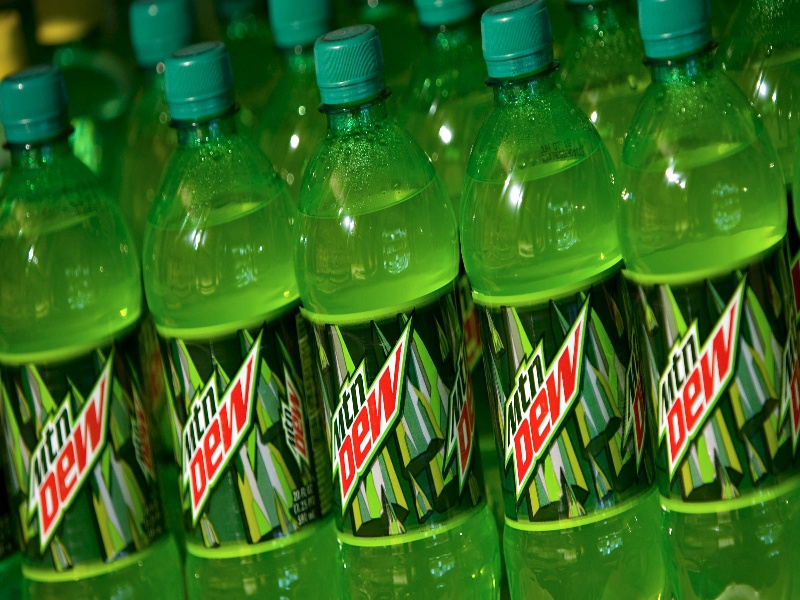Plastic bottle: (425, 2, 690, 595), (256, 6, 505, 558), (572, 5, 795, 594), (100, 43, 340, 588), (6, 65, 186, 600)
